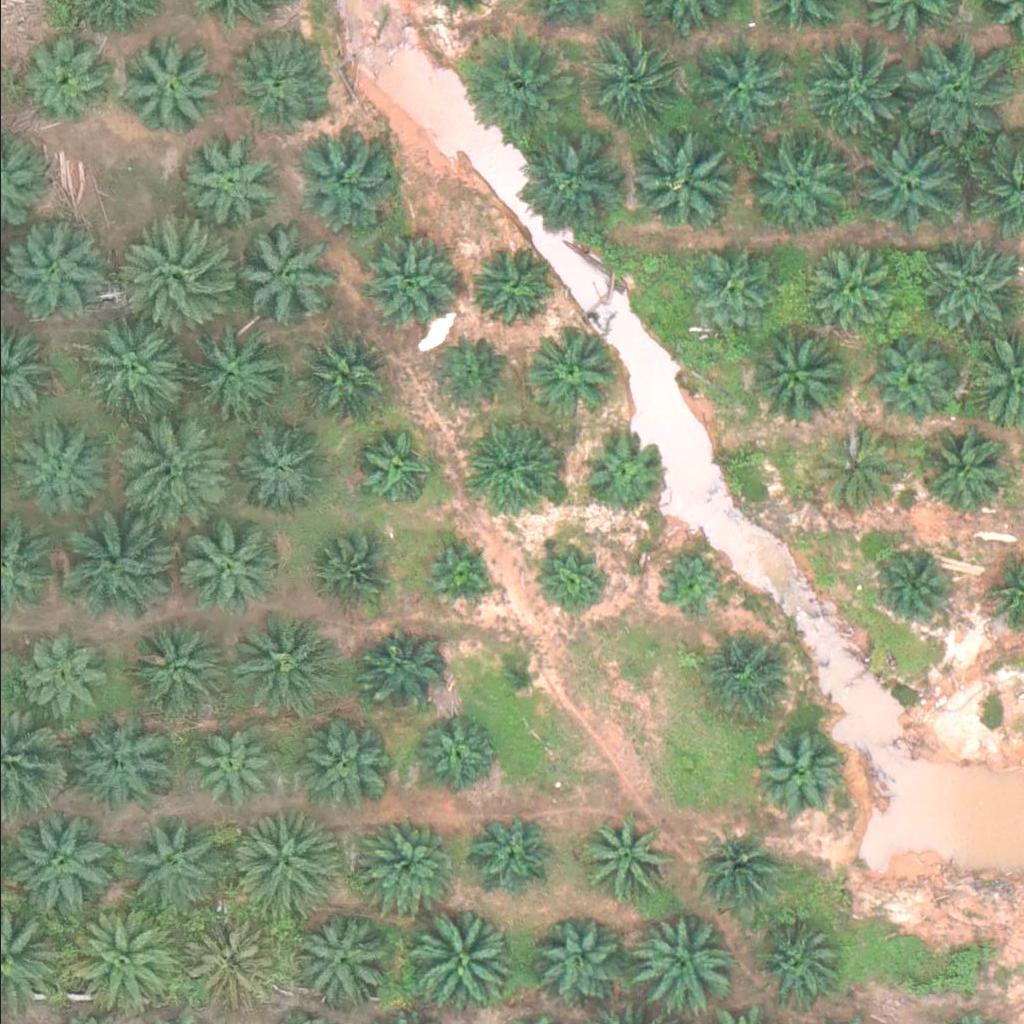Kelapa_Sawit: (744, 126, 858, 239), (117, 410, 231, 523), (898, 32, 1011, 145), (454, 29, 567, 142), (850, 130, 963, 243), (633, 118, 746, 231), (61, 507, 175, 619), (794, 35, 907, 147), (573, 23, 686, 135), (510, 122, 623, 234), (227, 810, 340, 922), (61, 902, 174, 1014), (119, 220, 232, 332), (921, 240, 1022, 340), (623, 916, 724, 1016), (518, 910, 619, 1010), (405, 910, 506, 1010), (293, 909, 394, 1009), (452, 414, 553, 514), (353, 816, 454, 916), (285, 717, 386, 817), (172, 515, 273, 615), (235, 227, 336, 327), (296, 125, 397, 225), (231, 33, 332, 133), (118, 814, 219, 914), (61, 712, 162, 812), (11, 416, 112, 516), (81, 315, 182, 415), (121, 38, 222, 138), (694, 34, 794, 134), (751, 322, 851, 422), (184, 913, 284, 1013), (688, 626, 788, 726), (231, 615, 331, 715), (350, 230, 450, 330), (181, 129, 281, 229), (127, 618, 227, 718), (230, 418, 330, 518), (175, 325, 275, 425), (810, 423, 898, 511), (808, 244, 896, 332), (688, 247, 776, 335), (869, 337, 957, 425), (921, 427, 1009, 515), (465, 813, 553, 901), (178, 720, 266, 808), (360, 626, 448, 714), (18, 634, 106, 722), (580, 819, 669, 906), (863, 545, 951, 632), (752, 921, 840, 1008), (690, 832, 778, 919), (760, 725, 848, 812), (577, 431, 665, 518), (297, 330, 385, 417), (296, 526, 384, 613), (419, 710, 507, 797), (528, 325, 616, 412), (465, 243, 553, 330), (22, 38, 110, 125), (355, 428, 431, 503), (415, 534, 491, 609), (532, 540, 608, 615), (652, 551, 728, 626), (425, 338, 500, 413), (497, 651, 547, 701)
